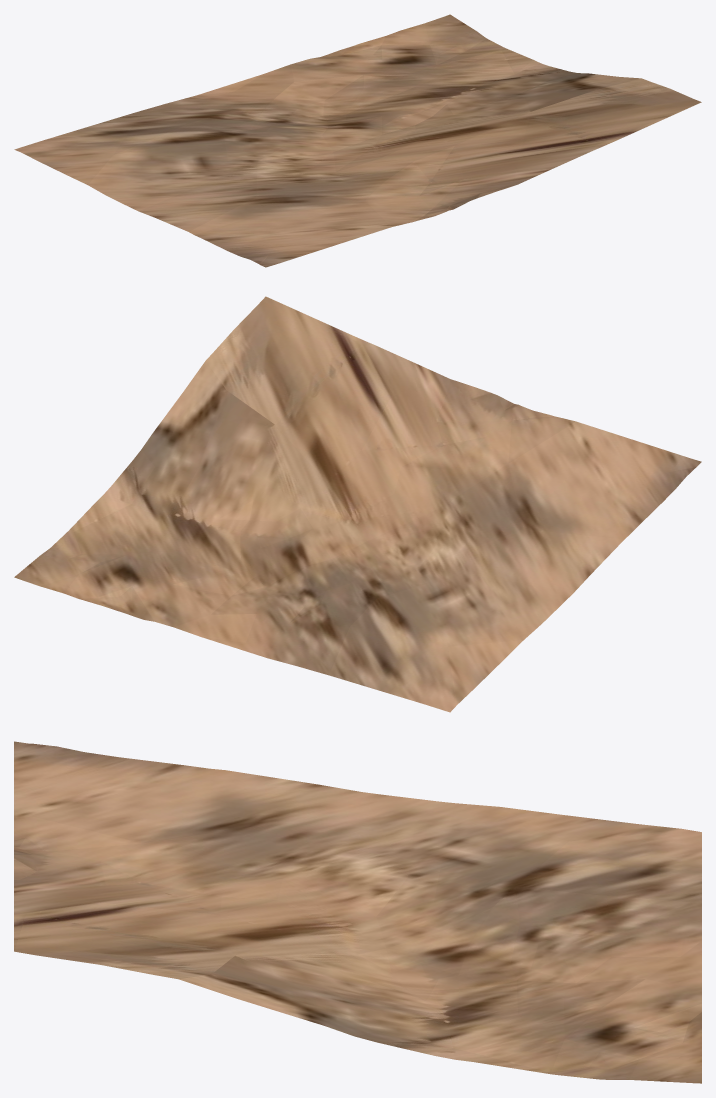
3 renders of one model, top to bottom at view 1: azimuth 30°, elevation 25°; view 2: azimuth 150°, elevation 25°; view 3: azimuth 270°, elevation 25°, orthographic. The views are drawn at different scales.
Size of the model in its own units: 2.09 by 0.5739 by 2.09.
2 materials, 2 textured.
